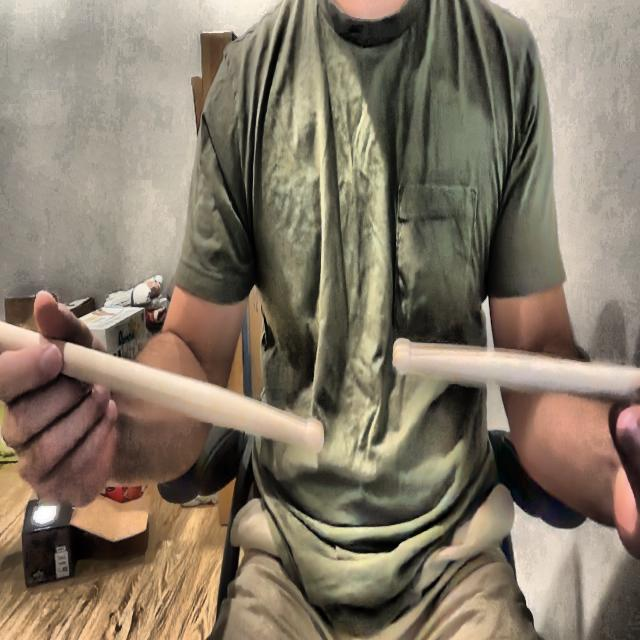Drumstick-Heads: (302, 414, 326, 463), (388, 333, 415, 376)
